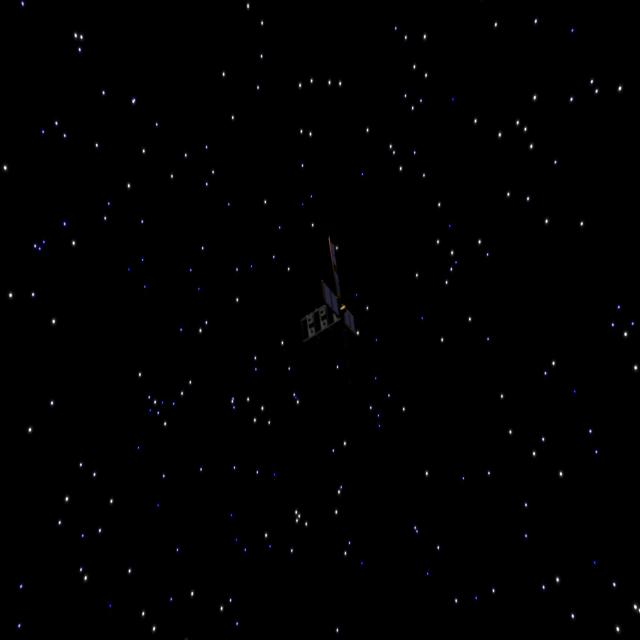medium_debris: (294, 245, 372, 359)
